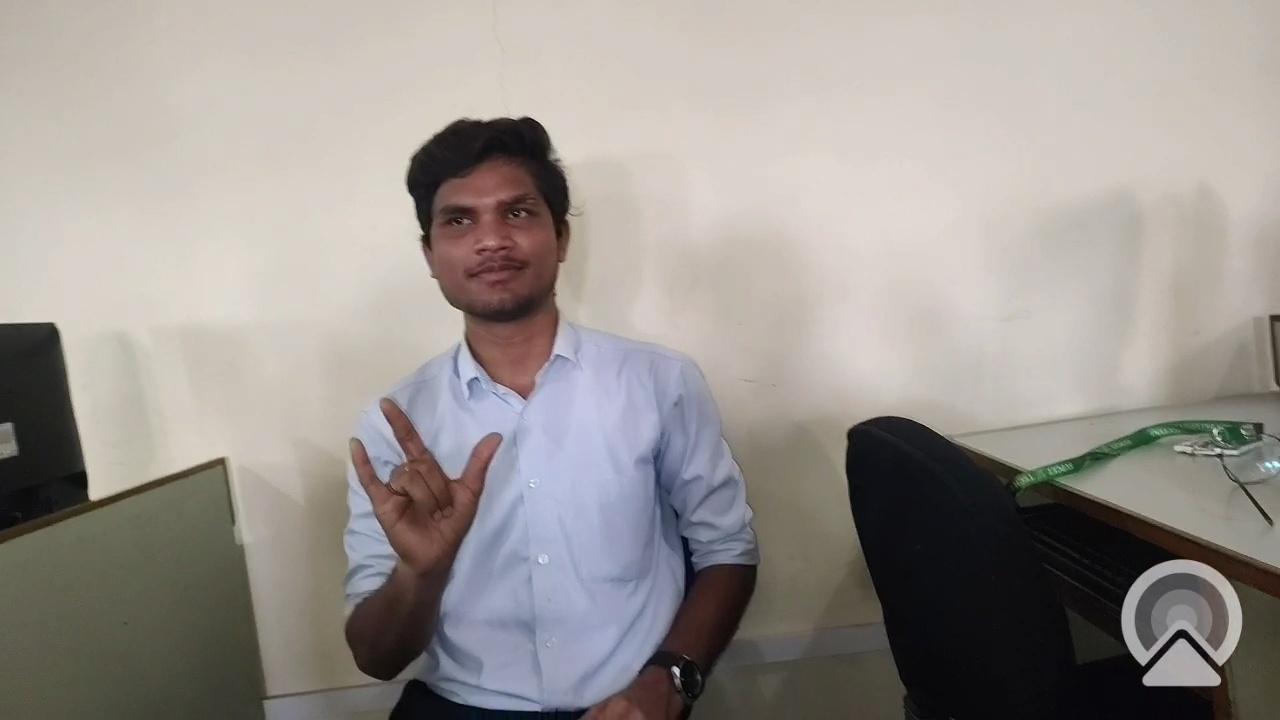I love you: (318, 373, 539, 612)
